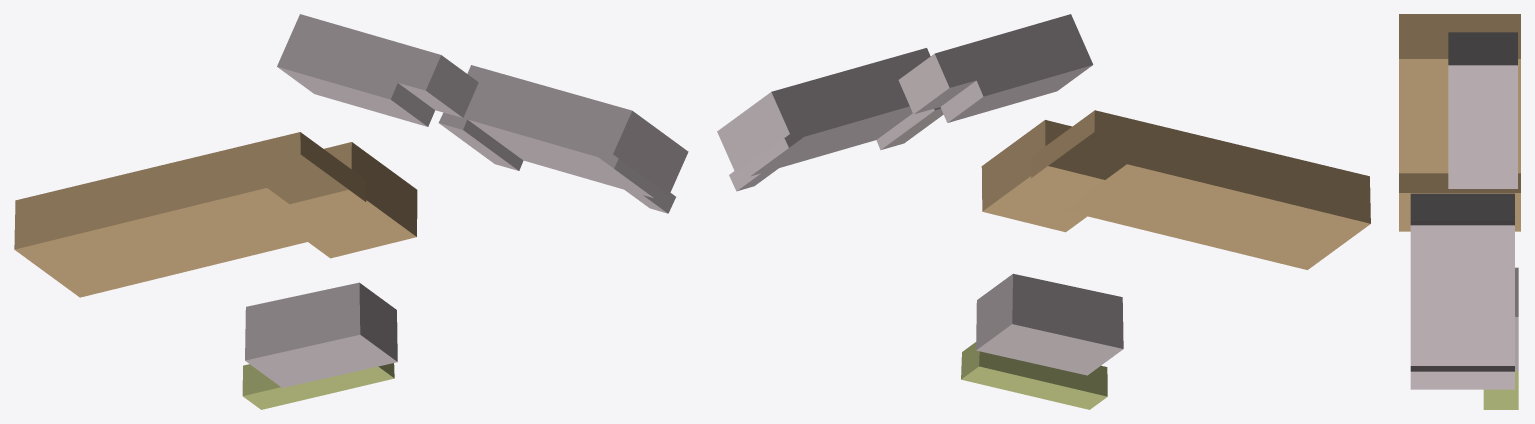
3 views of the same model, side by side, from view 1: azimuth 30°, elevation 25°; view 2: azimuth 150°, elevation 25°; view 3: azimuth 270°, elevation 25° (orthographic). The views are drawn at different scales.
Parts seen in each view (by area): view 1: 0_1_0_0_2_2_1_2; view 2: 0_1_0_0_2_2_1_2; view 3: 0_1_0_0_2_2_1_2.
Part boxes in pixels (x1,y1,x2,y2): 0_1_0_0_2_2_1_2: (14, 14, 688, 409); 0_1_0_0_2_2_1_2: (717, 14, 1370, 409); 0_1_0_0_2_2_1_2: (1399, 14, 1520, 409).
Size of the model in its own units: 114 by 65.29 by 21.
